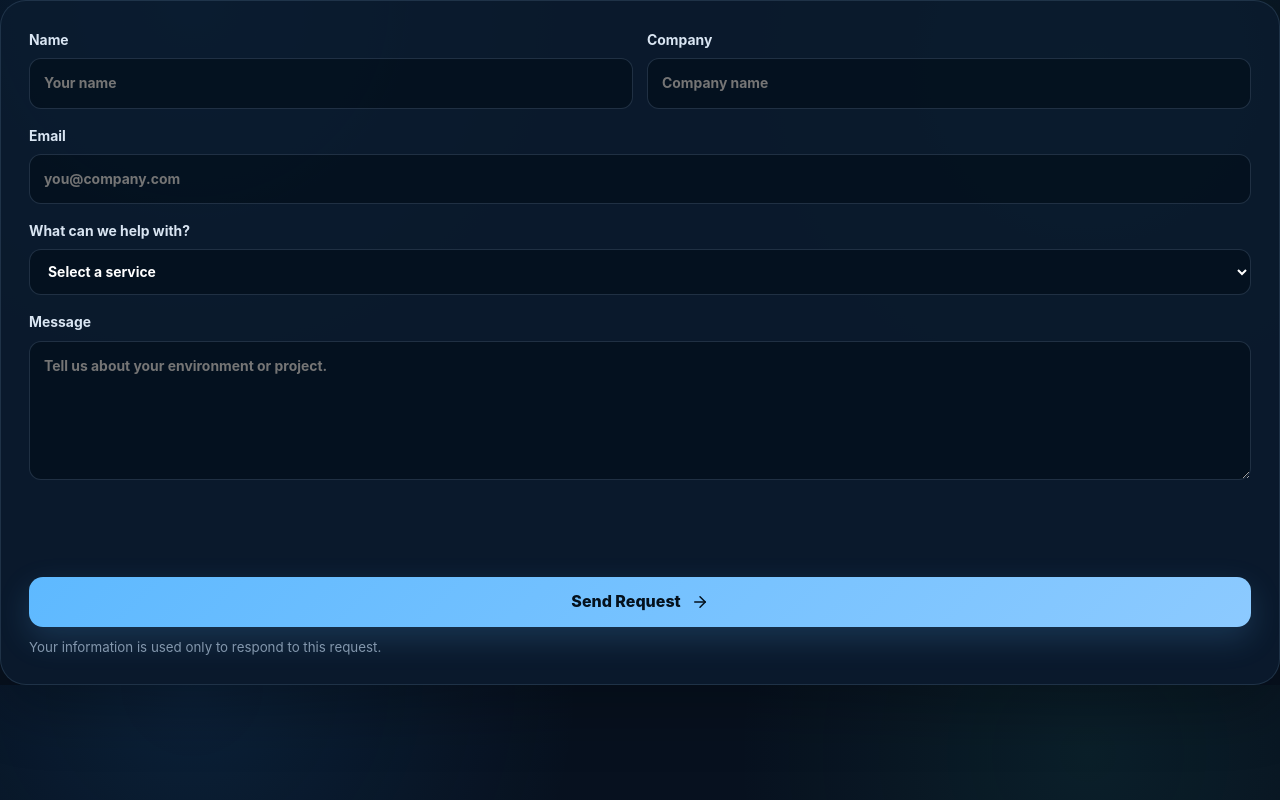
ContactForm › uses a generic error when the response is malformed
Type "Jane Smith" into the field labelled "Name" at (331, 83), box 29,58 -> 633,109
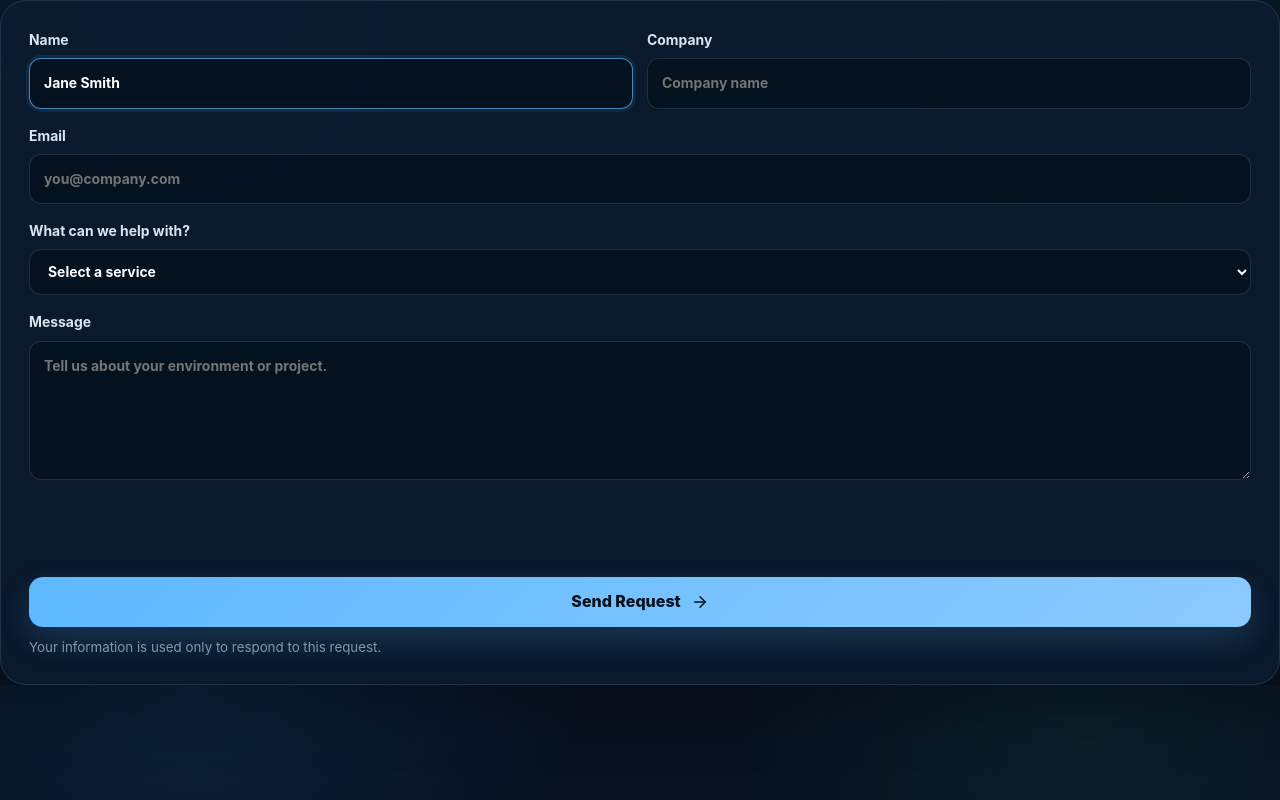
Type "Example Co" into the field labelled "Company" at (949, 83), box 647,58 -> 1251,109
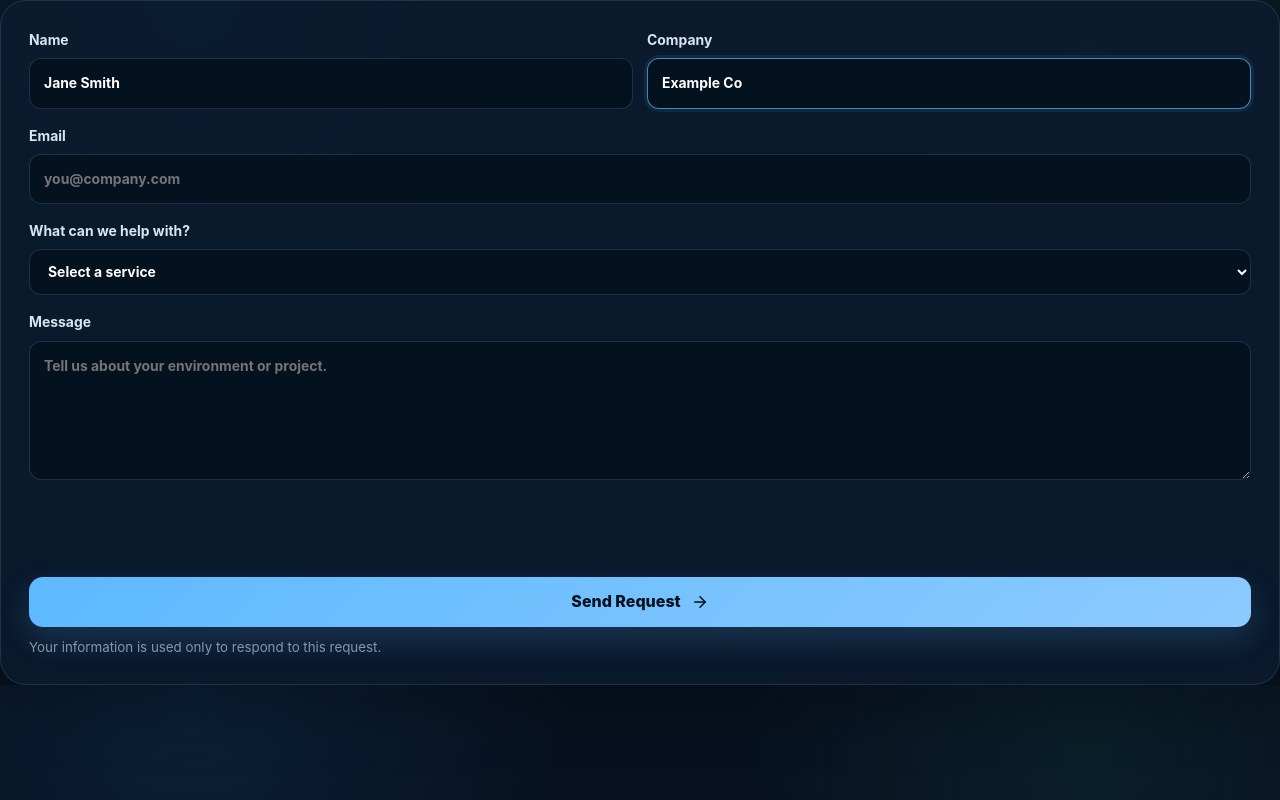
Type "jane@example.com" into the field labelled "Email" at (640, 179), box 29,154 -> 1251,204
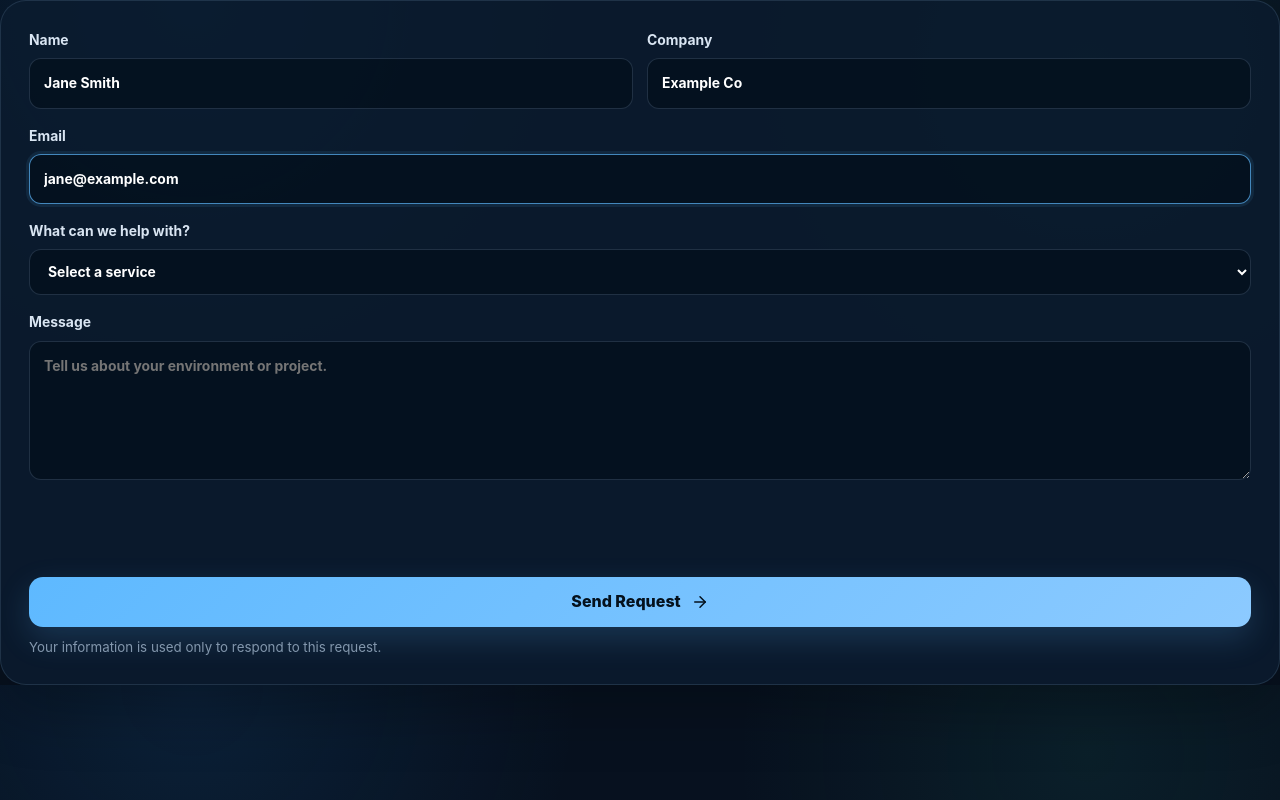
Select "Cloud Security" in the dropdown labelled "What can we help with?" at (640, 272), box 29,249 -> 1251,295
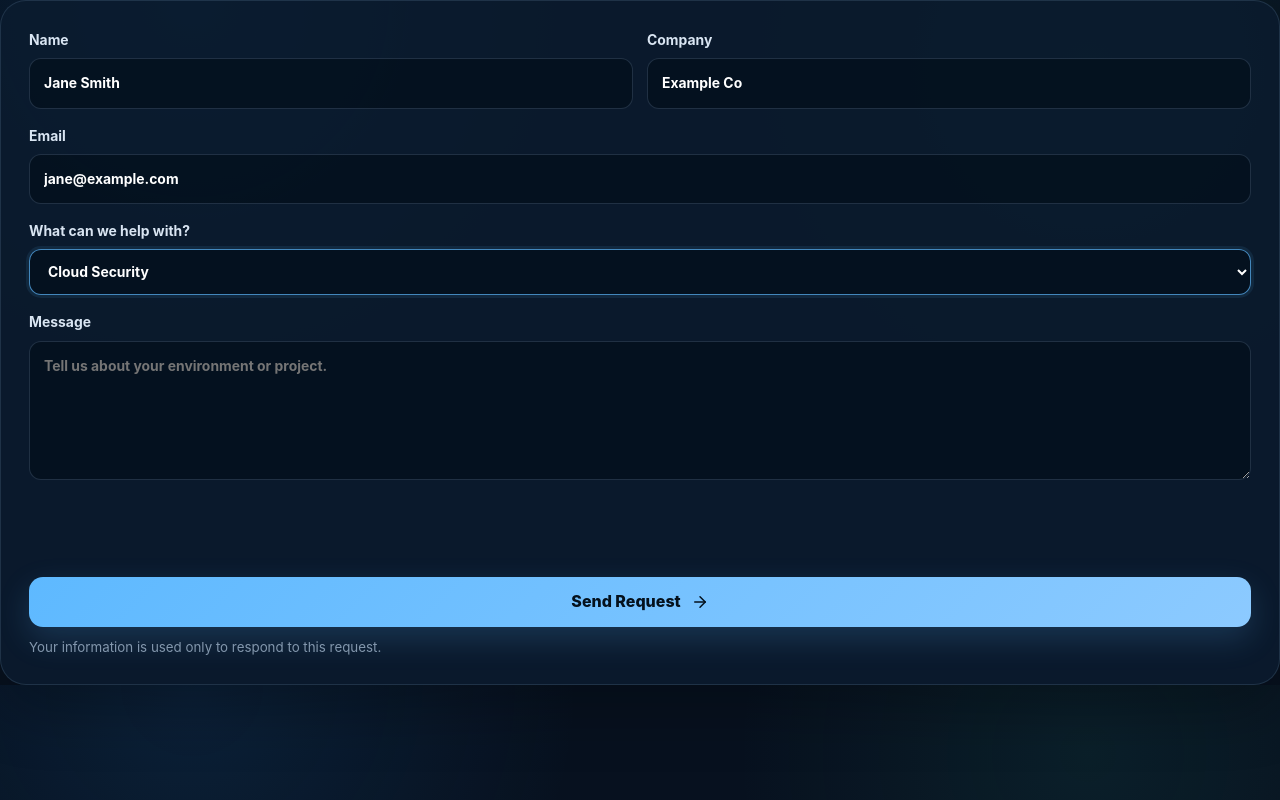
Type "Please review our AWS environment." into the text box labelled "Message" at (640, 410), box 29,341 -> 1251,480
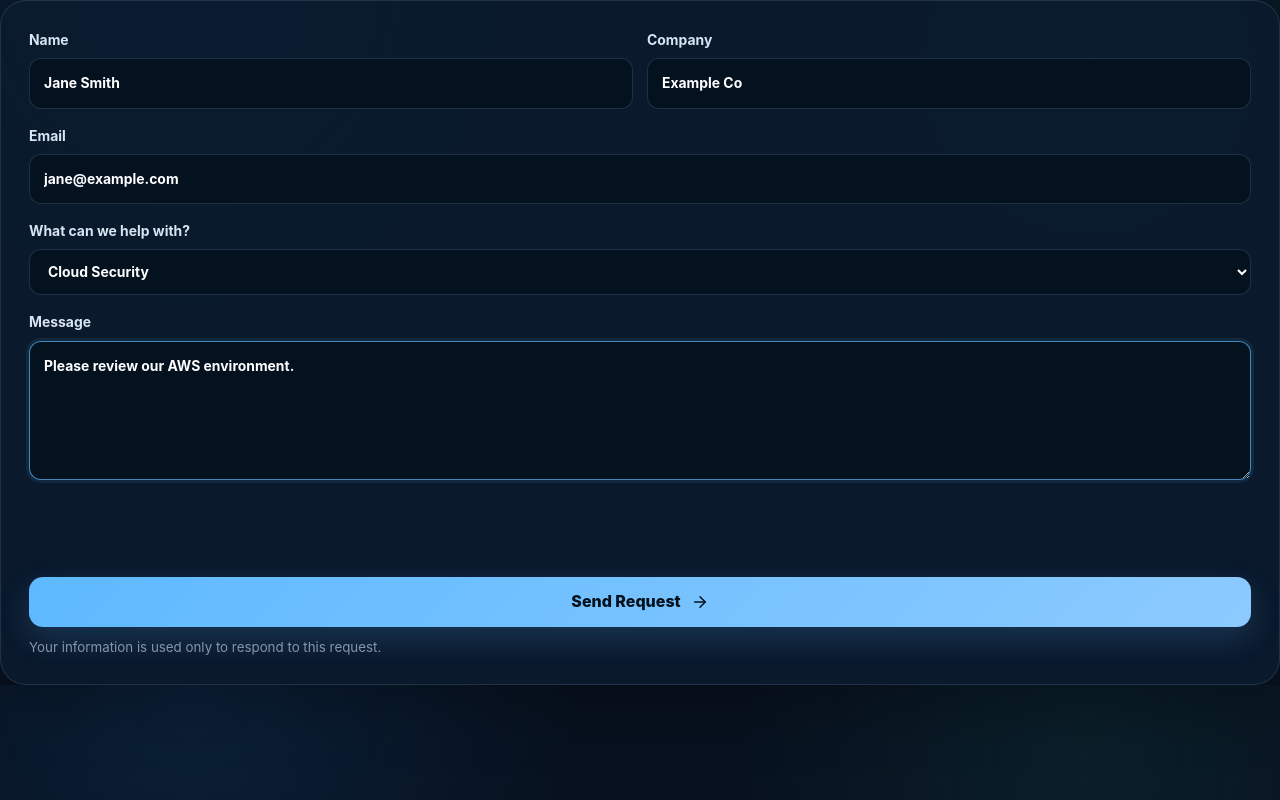
Click the button "Send Request" at (640, 602), box 29,577 -> 1251,627
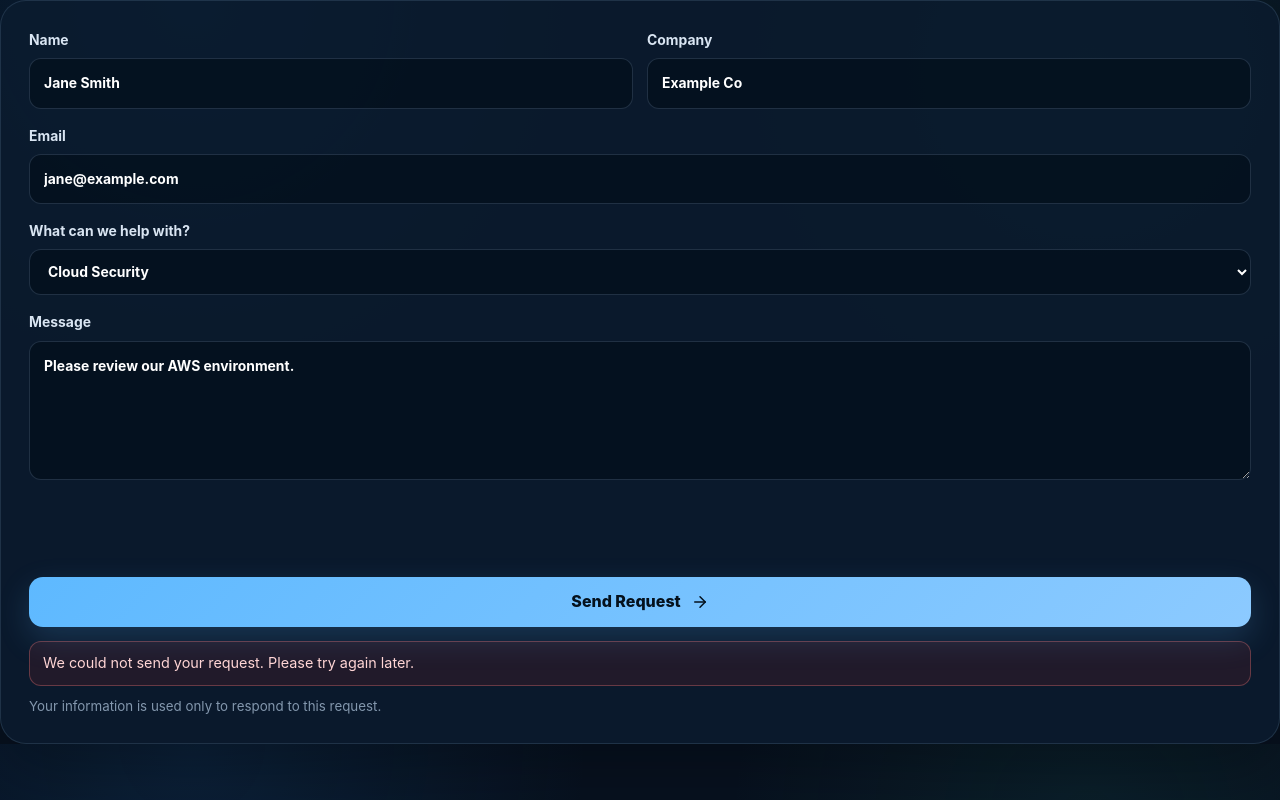
Now the message shows "could not send your request", box 43,654 -> 414,671
